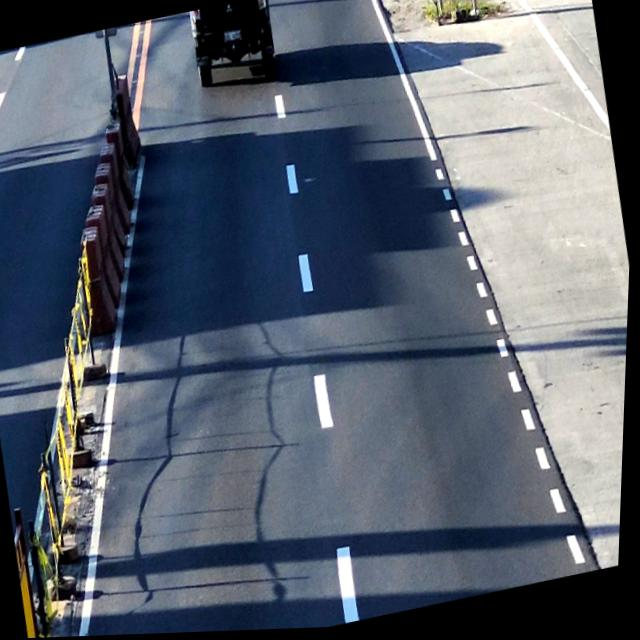Car: (182, 0, 284, 88)
License-Plate: (220, 30, 244, 47)
